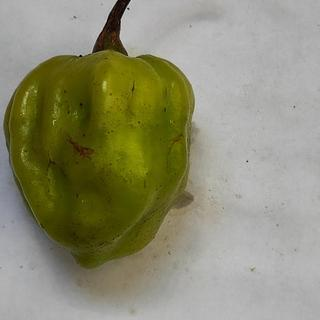Fly-bites: (73, 98, 92, 113), (161, 105, 170, 115), (61, 87, 70, 96), (74, 190, 82, 200), (135, 118, 143, 125), (80, 132, 88, 139)
striped: (124, 77, 145, 97)
